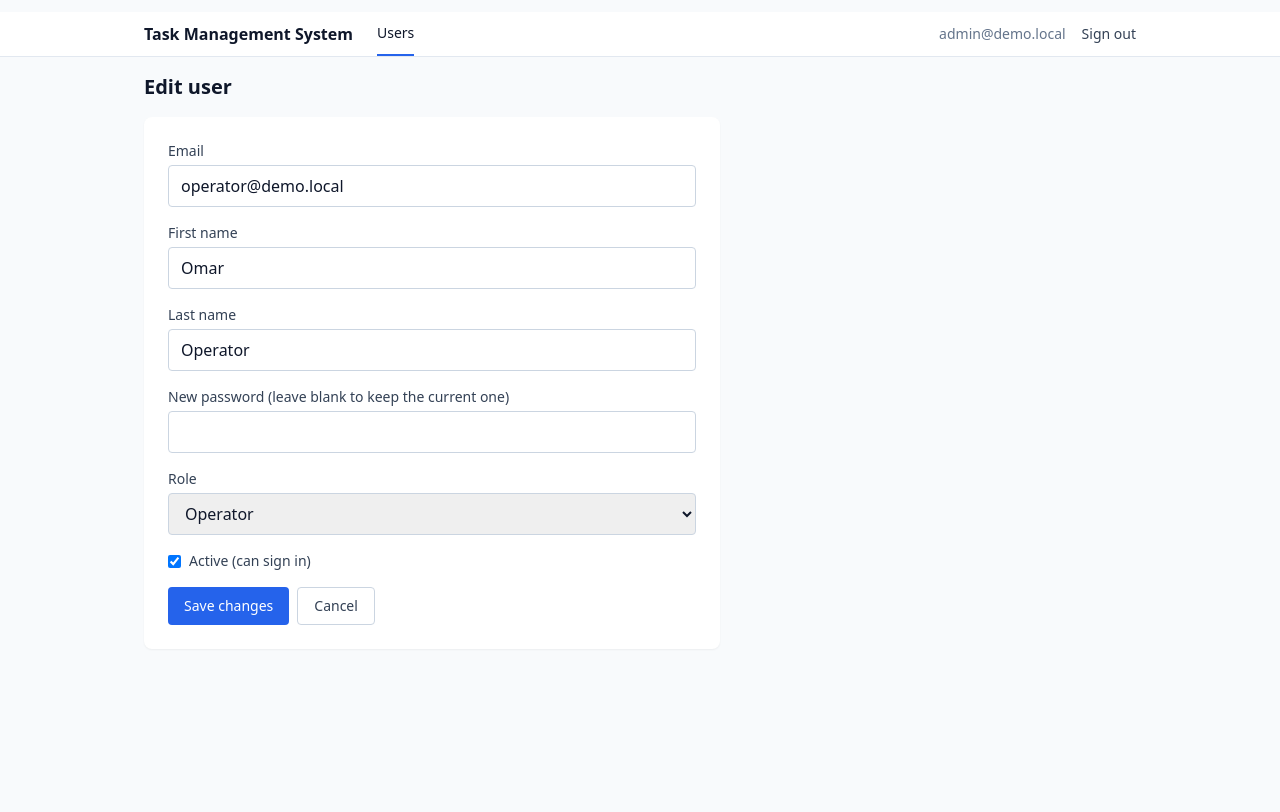
UserForm › shows a cannot_change_own_access refusal as a form-level message
Click the button "Save changes" at {"x": 229, "y": 606}, box 168,587 -> 289,625
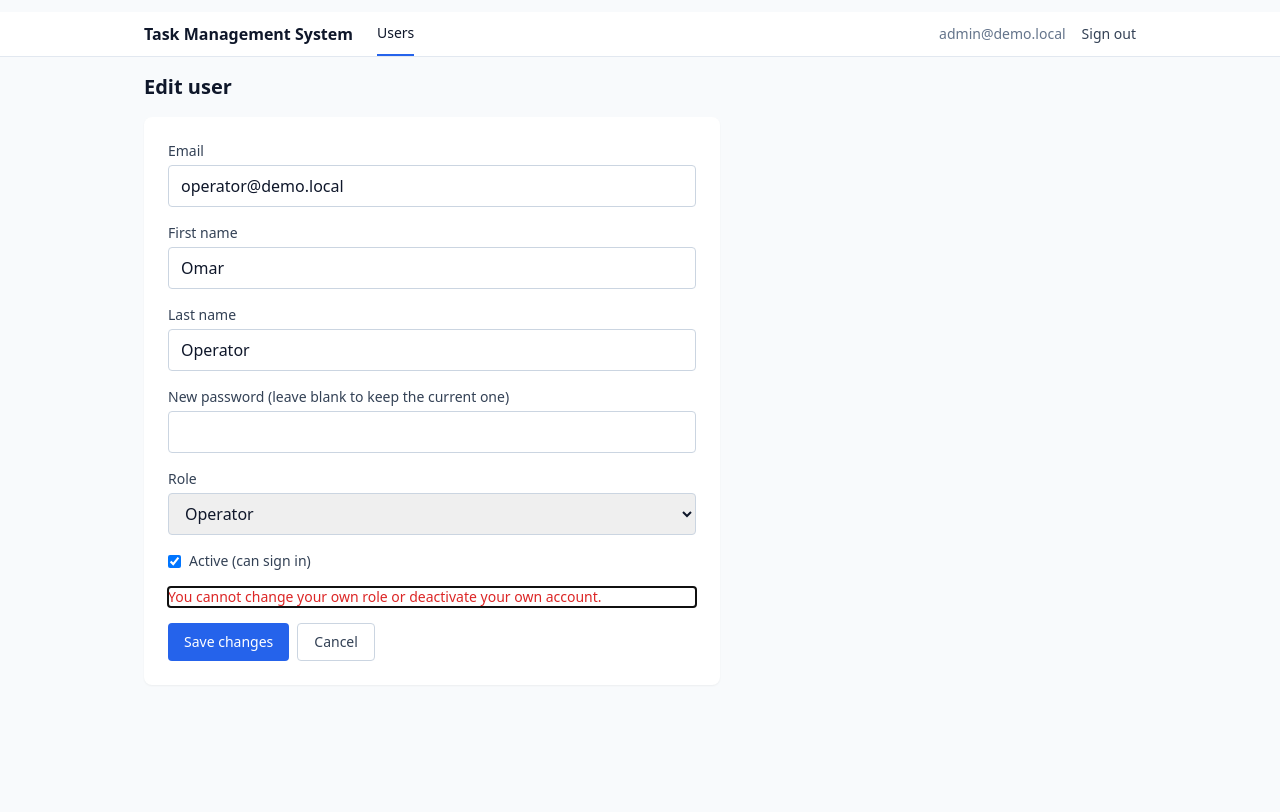
Expected: the message shows "cannot change your own role", 168,587 -> 602,606
